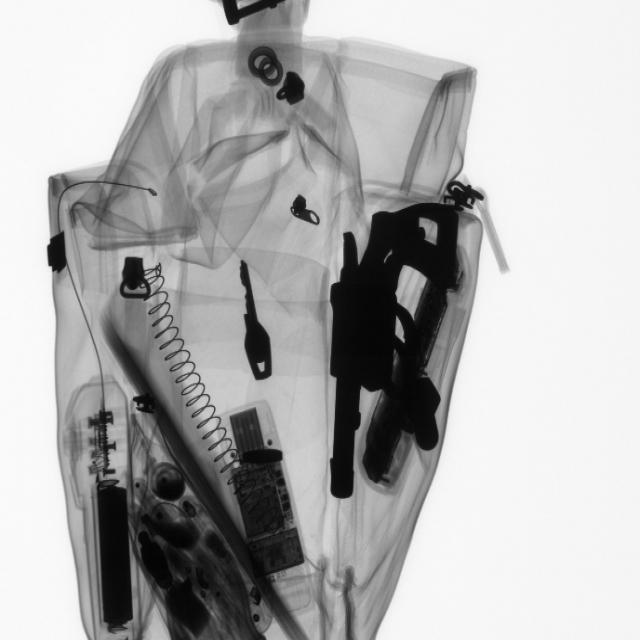GUN: (328, 175, 446, 518)
